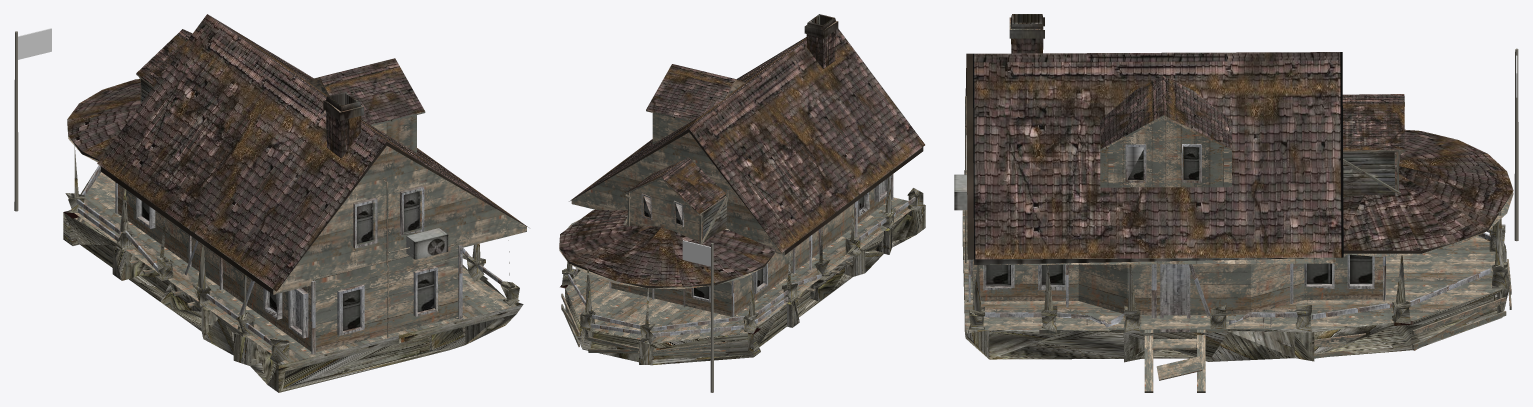
3 renders of one model, left to right at view 1: azimuth 30°, elevation 25°; view 2: azimuth 150°, elevation 25°; view 3: azimuth 270°, elevation 25°, orthographic. The views are drawn at different scales.
Visible parts, largest first — view 1: dweller_building_housing; view 2: dweller_building_housing; view 3: dweller_building_housing.
Part boxes in pixels (<box>): dweller_building_housing: <box>14,14,528,392</box>; dweller_building_housing: <box>559,14,925,392</box>; dweller_building_housing: <box>954,14,1518,392</box>.
Size of the model in its own units: 12.14 by 9.99 by 18.77.
6 materials, 4 textured.
